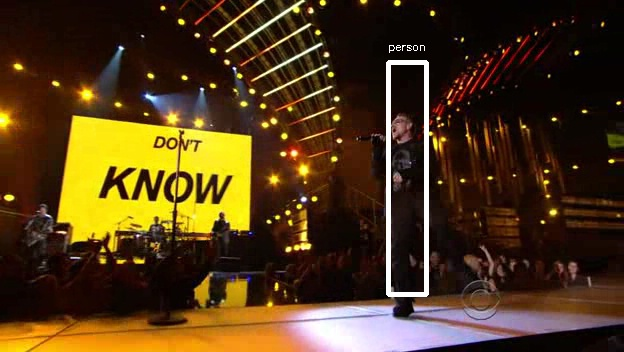person: (372, 112, 438, 221), (369, 112, 435, 221), (375, 112, 441, 221), (372, 109, 438, 218), (372, 115, 438, 224)
target_negative: (48, 79, 610, 205), (141, 133, 546, 278), (304, 157, 590, 304), (260, 192, 542, 281), (270, 246, 577, 321), (181, 137, 342, 158)
